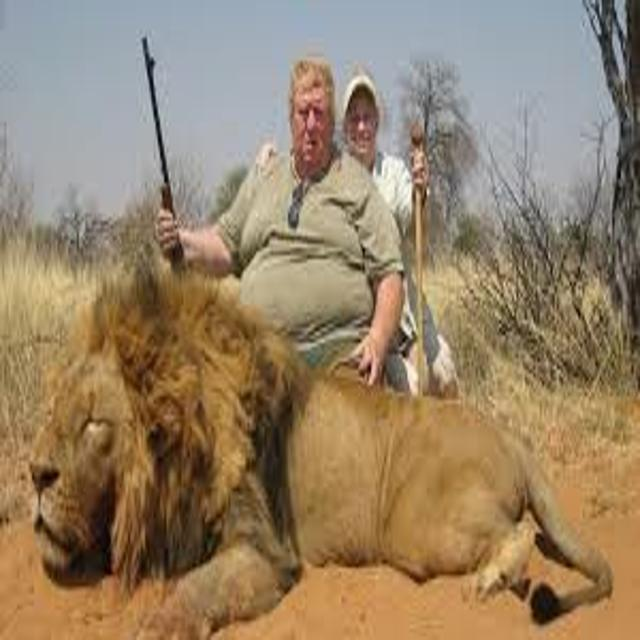gun: (121, 29, 215, 287)
poacher: (118, 47, 446, 399), (330, 57, 503, 403)
tiger: (15, 241, 631, 631)
